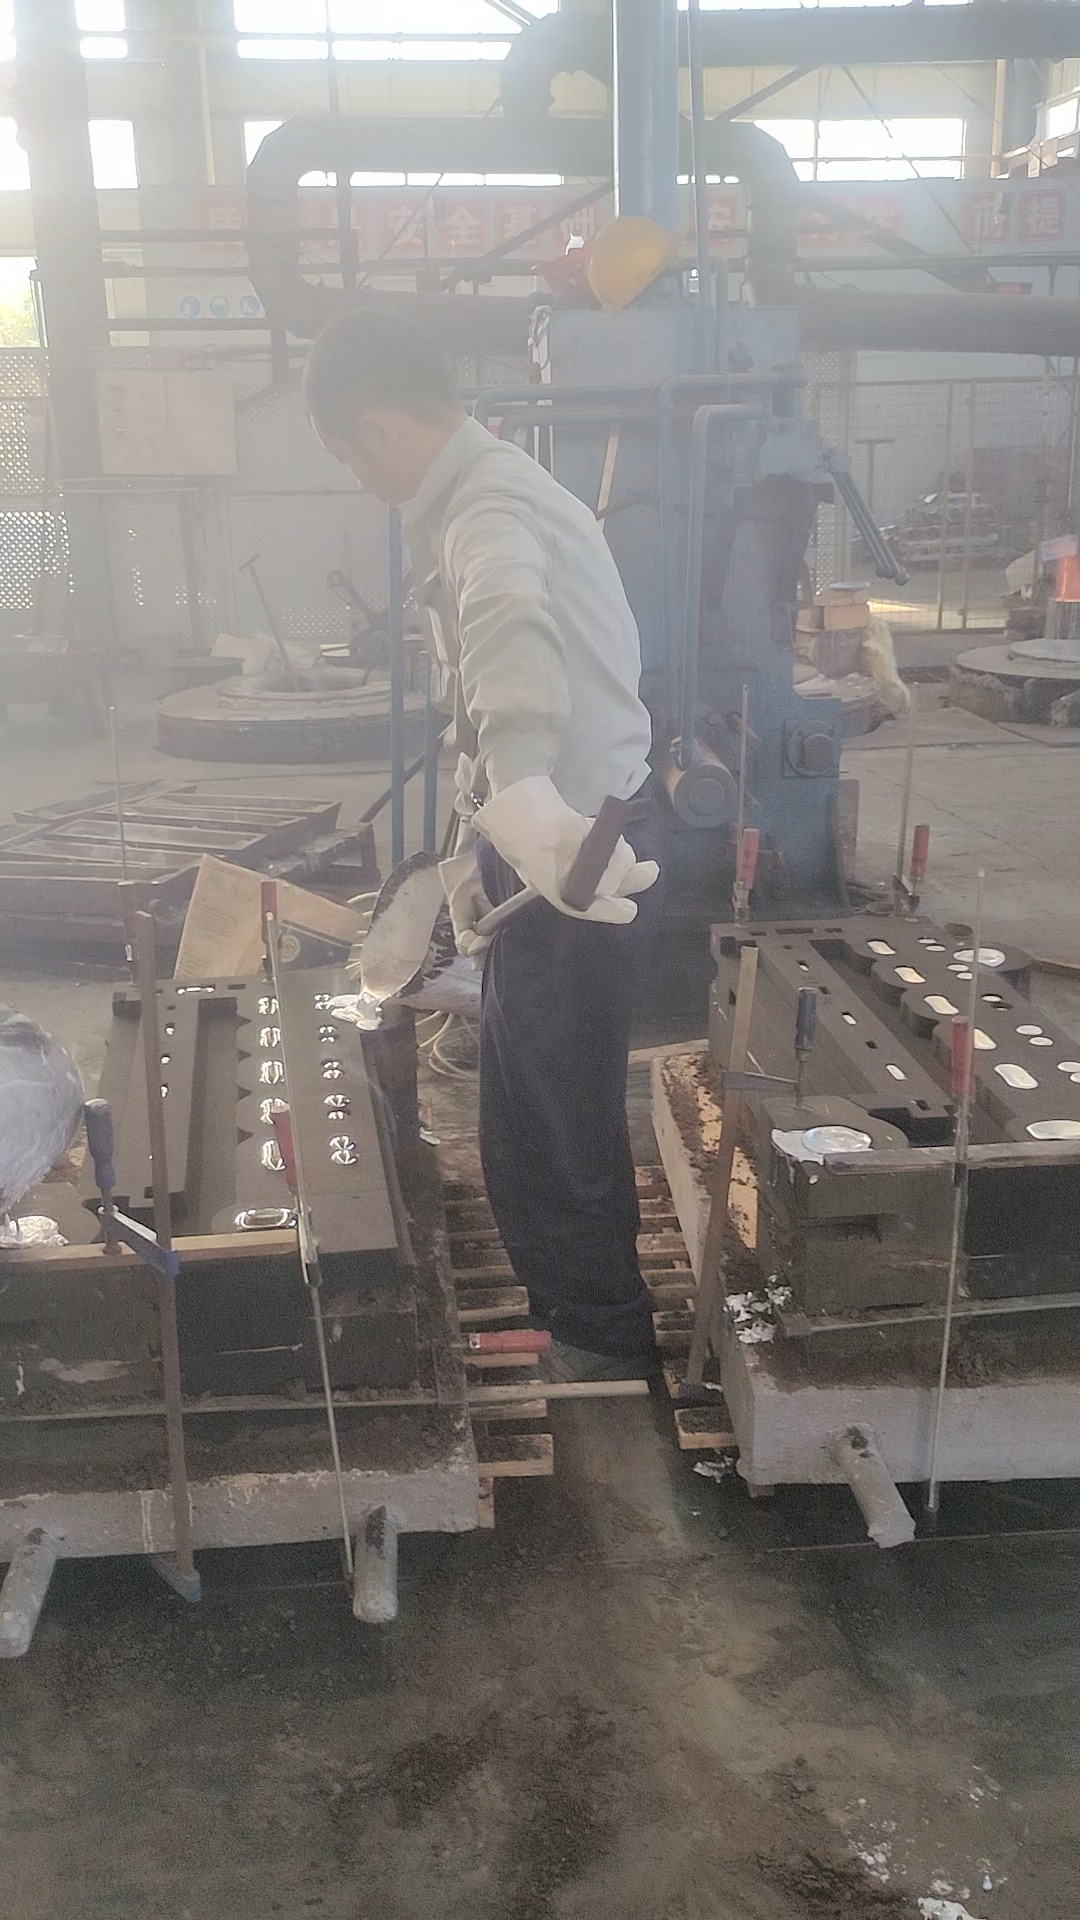pouring hole: (802, 1124, 876, 1156), (338, 994, 402, 1030), (1, 1215, 62, 1251), (949, 943, 1009, 968)
